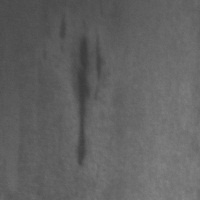inclusion: (66, 28, 110, 169)
